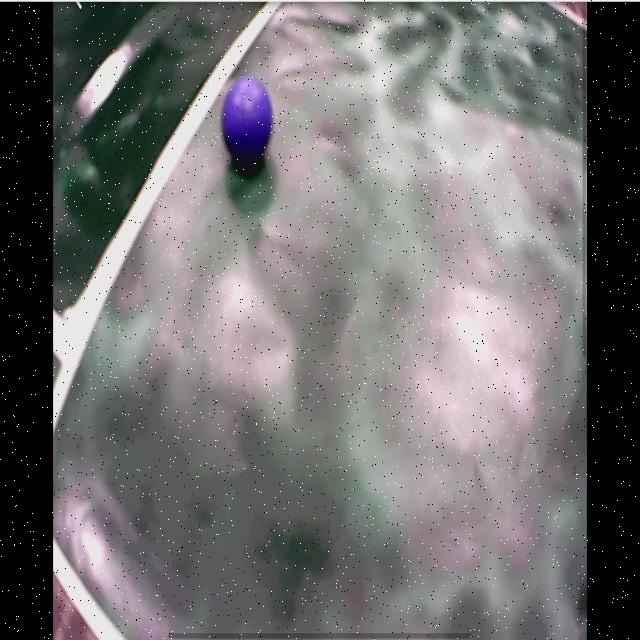ball: (222, 78, 273, 157)
